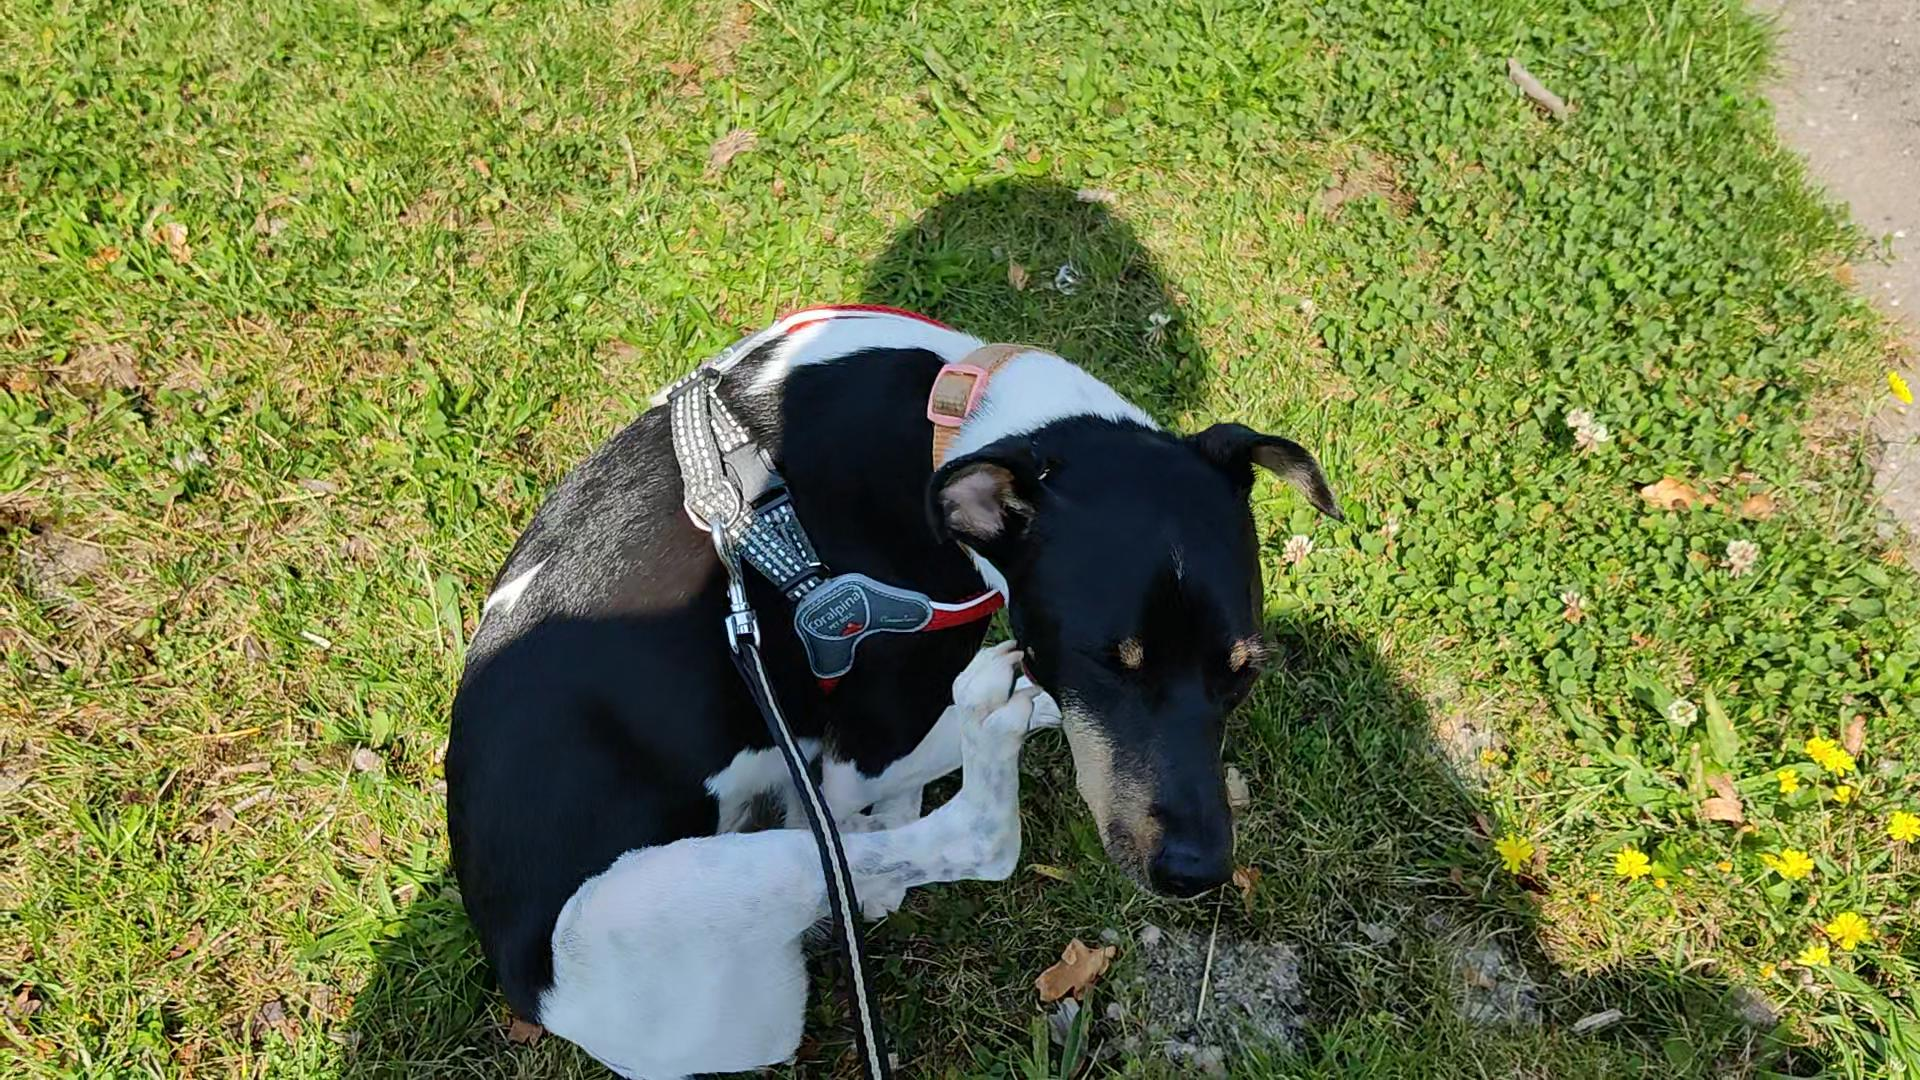Dog: (438, 295, 1349, 1079)
